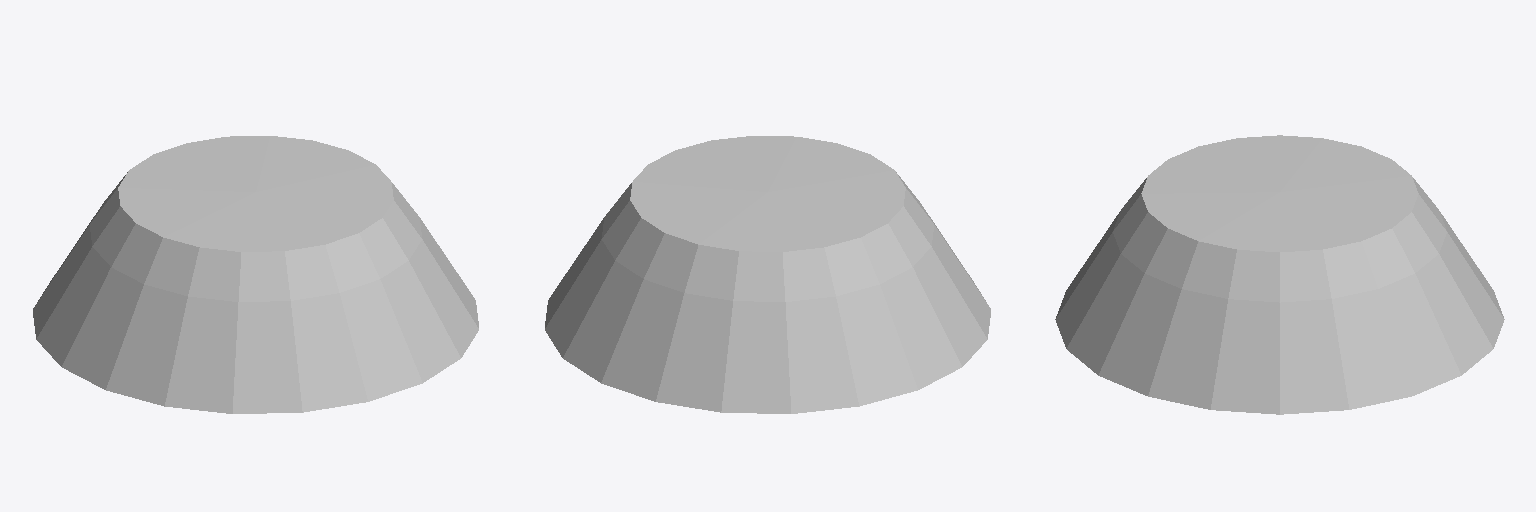
The model's file is bolardopeq.obj.
3 views of the same model, side by side, from view 1: azimuth 30°, elevation 25°; view 2: azimuth 150°, elevation 25°; view 3: azimuth 270°, elevation 25° (orthographic).
Visible parts, largest first — view 1: Maqueta:bolardopeq_aiStandardSurface1SG7; view 2: Maqueta:bolardopeq_aiStandardSurface1SG7; view 3: Maqueta:bolardopeq_aiStandardSurface1SG7.
Part boxes in pixels (x1,y1,x2,y2): Maqueta:bolardopeq_aiStandardSurface1SG7: (33, 136, 478, 413); Maqueta:bolardopeq_aiStandardSurface1SG7: (545, 136, 990, 413); Maqueta:bolardopeq_aiStandardSurface1SG7: (1055, 135, 1504, 414).
Size of the model in its own units: 0.4244 by 0.1329 by 0.4244.